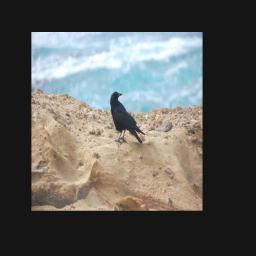Crow: (110, 89, 145, 145)
